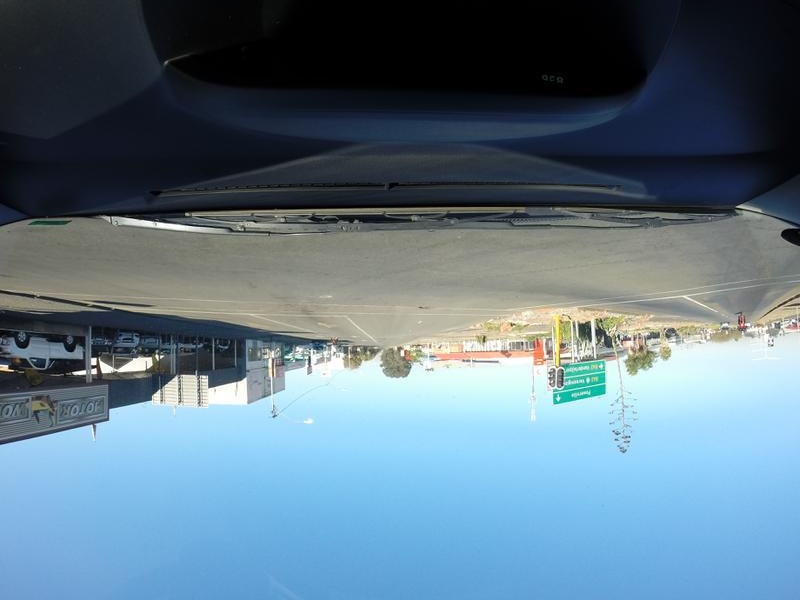pothole: (408, 307, 429, 312)
